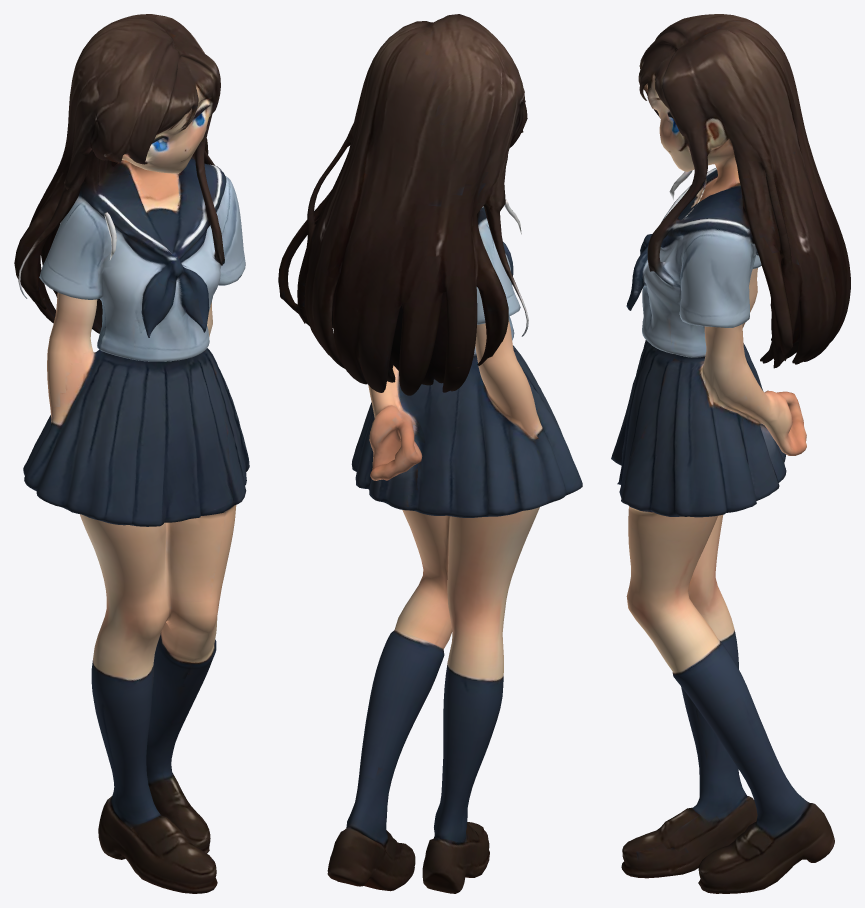
Rendered from yumei.glb.
3 views of the same model, side by side, from view 1: azimuth 30°, elevation 25°; view 2: azimuth 150°, elevation 25°; view 3: azimuth 270°, elevation 25° (orthographic). The views are drawn at different scales.
Visible parts, largest first — view 1: model; view 2: model; view 3: model.
Boxes of the visible parts, x1,y1,x2,y2 form: model: (14, 14, 249, 893); model: (278, 14, 582, 893); model: (611, 14, 850, 893).
Size of the model in its own units: 0.5754 by 1.9 by 0.4869.
1 material, 1 textured.
